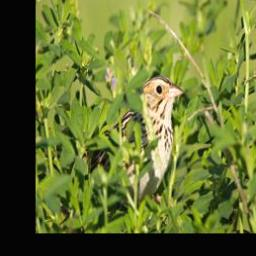Sparrow: (83, 74, 186, 216)
